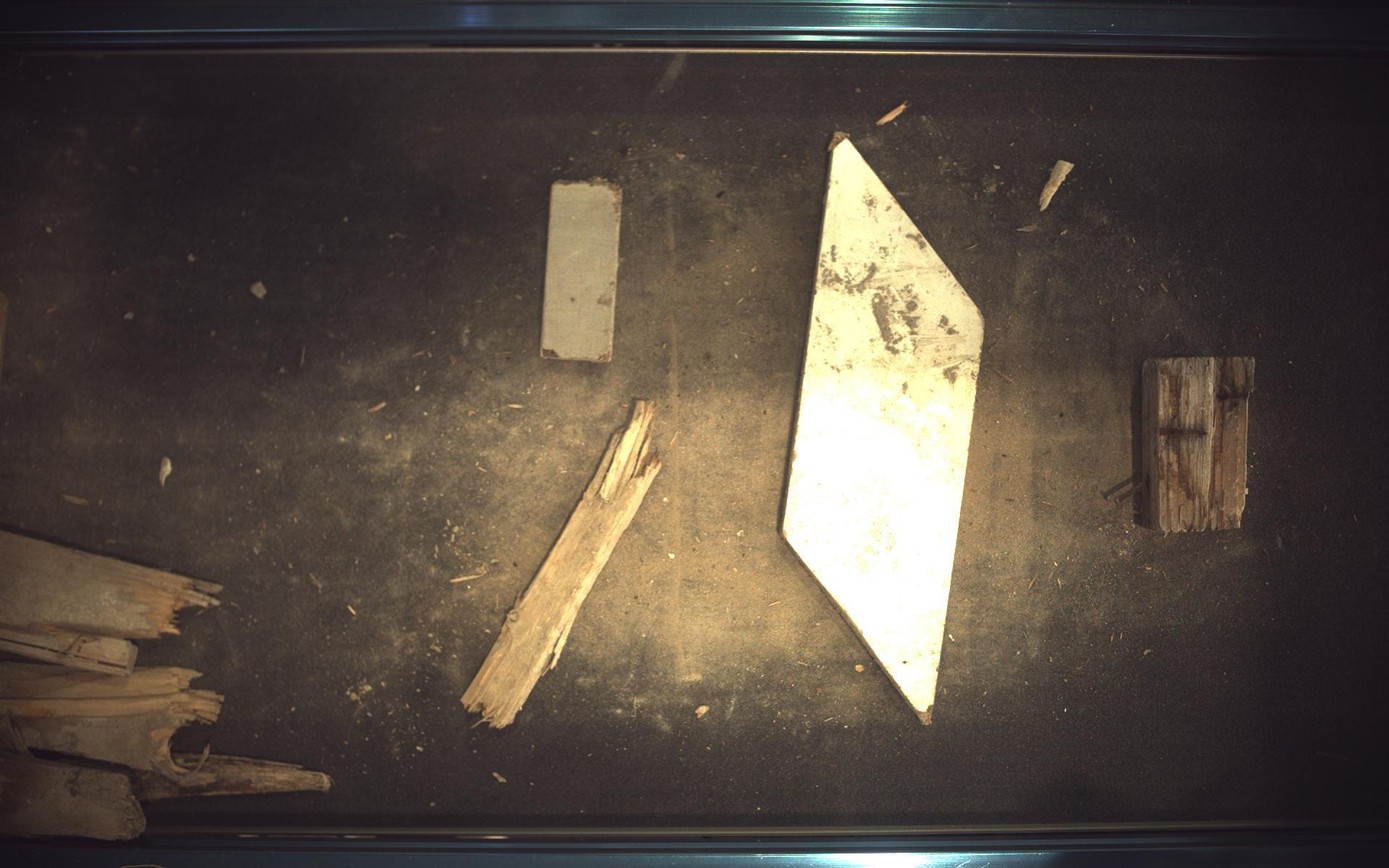wood: (783, 137, 986, 724), (462, 401, 662, 730), (1105, 357, 1258, 532), (540, 177, 622, 362)
